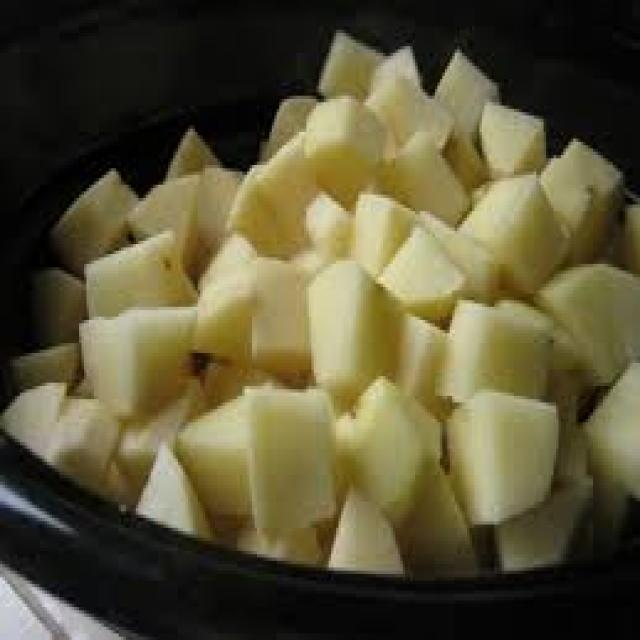Potato: (8, 27, 640, 567)
